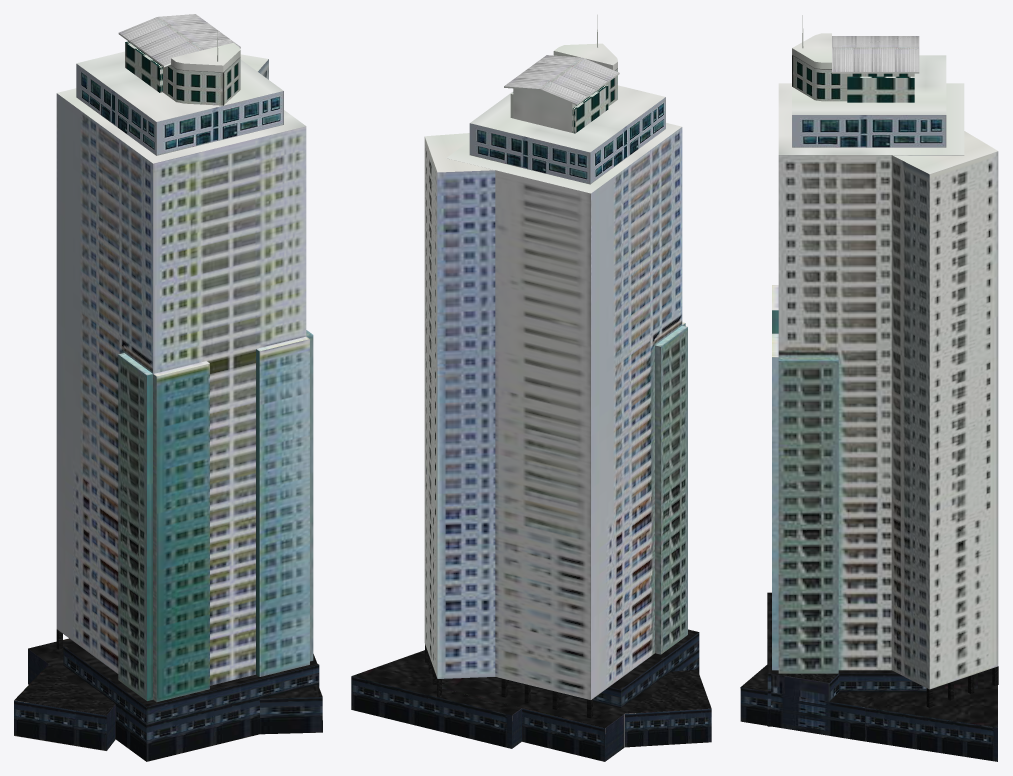
3 renders of one model, left to right at view 1: azimuth 30°, elevation 25°; view 2: azimuth 150°, elevation 25°; view 3: azimuth 270°, elevation 25°, orthographic. The views are drawn at different scales.
Parts seen in each view (by area): view 1: 5b2884e7e8388a19d4cf2644.001; view 2: 5b2884e7e8388a19d4cf2644.001; view 3: 5b2884e7e8388a19d4cf2644.001.
Part boxes in pixels (box(x1,y1,x2,y2)): 5b2884e7e8388a19d4cf2644.001: box(14, 14, 322, 761); 5b2884e7e8388a19d4cf2644.001: box(351, 15, 711, 761); 5b2884e7e8388a19d4cf2644.001: box(740, 15, 998, 761).
Size of the model in its own units: 79.61 by 166 by 57.64.
Materials: 1 (1 with a texture image).
